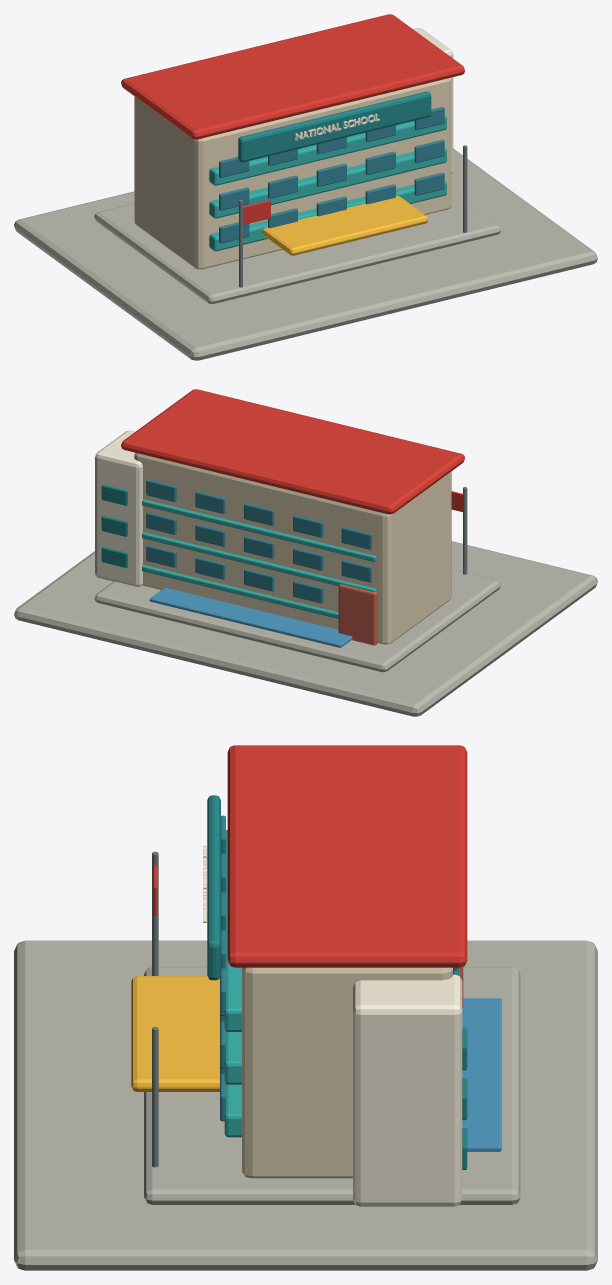
File: national-school-v2.glb
3 renders of one model, top to bottom at view 1: azimuth 30°, elevation 25°; view 2: azimuth 150°, elevation 25°; view 3: azimuth 270°, elevation 25°, orthographic. The views are drawn at different scales.
Visible parts, largest first — view 1: Ground, NATIONAL SCHOOL SCHOOL · Island red, NATIONAL SCHOOL SCHOOL · Warm plaster, NATIONAL SCHOOL SCHOOL · Concrete, NATIONAL SCHOOL SCHOOL · Graphic glass, NATIONAL SCHOOL SCHOOL · Weathered teal, NATIONAL SCHOOL SCHOOL · Signal yellow, NATIONAL SCHOOL SCHOOL · Deep teal, NATIONAL SCHOOL SCHOOL · Chalk, NATIONAL SCHOOL SCHOOL · Dark metal; view 2: Ground, NATIONAL SCHOOL SCHOOL · Warm plaster, NATIONAL SCHOOL SCHOOL · Island red, NATIONAL SCHOOL SCHOOL · Concrete, NATIONAL SCHOOL SCHOOL · Graphic glass, NATIONAL SCHOOL SCHOOL · Chalk, NATIONAL SCHOOL SCHOOL · Weathered teal, NATIONAL SCHOOL SCHOOL · Utility blue, NATIONAL SCHOOL SCHOOL · Terracotta, NATIONAL SCHOOL SCHOOL · Deep teal, NATIONAL SCHOOL SCHOOL · Dark metal; view 3: Ground, NATIONAL SCHOOL SCHOOL · Island red, NATIONAL SCHOOL SCHOOL · Chalk, NATIONAL SCHOOL SCHOOL · Warm plaster, NATIONAL SCHOOL SCHOOL · Concrete, NATIONAL SCHOOL SCHOOL · Signal yellow, NATIONAL SCHOOL SCHOOL · Utility blue, NATIONAL SCHOOL SCHOOL · Deep teal, NATIONAL SCHOOL SCHOOL · Weathered teal, NATIONAL SCHOOL SCHOOL · Dark metal, NATIONAL SCHOOL SCHOOL · Graphic glass.
Boxes of the visible parts, left/top/right/bottom form: Ground: left=14, top=148, right=597, bottom=360; NATIONAL SCHOOL SCHOOL · Island red: left=121, top=14, right=464, bottom=224; NATIONAL SCHOOL SCHOOL · Warm plaster: left=134, top=77, right=451, bottom=269; NATIONAL SCHOOL SCHOOL · Concrete: left=94, top=191, right=500, bottom=303; NATIONAL SCHOOL SCHOOL · Graphic glass: left=219, top=107, right=444, bottom=243; NATIONAL SCHOOL SCHOOL · Weathered teal: left=209, top=115, right=446, bottom=251; NATIONAL SCHOOL SCHOOL · Signal yellow: left=262, top=196, right=428, bottom=255; NATIONAL SCHOOL SCHOOL · Deep teal: left=238, top=91, right=431, bottom=162; NATIONAL SCHOOL SCHOOL · Chalk: left=295, top=28, right=453, bottom=173; NATIONAL SCHOOL SCHOOL · Dark metal: left=239, top=145, right=467, bottom=287; Ground: left=14, top=541, right=597, bottom=716; NATIONAL SCHOOL SCHOOL · Warm plaster: left=134, top=452, right=451, bottom=644; NATIONAL SCHOOL SCHOOL · Island red: left=121, top=389, right=464, bottom=514; NATIONAL SCHOOL SCHOOL · Concrete: left=94, top=569, right=500, bottom=672; NATIONAL SCHOOL SCHOOL · Graphic glass: left=146, top=479, right=371, bottom=603; NATIONAL SCHOOL SCHOOL · Chalk: left=95, top=430, right=142, bottom=586; NATIONAL SCHOOL SCHOOL · Weathered teal: left=142, top=499, right=376, bottom=618; NATIONAL SCHOOL SCHOOL · Utility blue: left=149, top=587, right=352, bottom=647; NATIONAL SCHOOL SCHOOL · Terracotta: left=338, top=584, right=377, bottom=645; NATIONAL SCHOOL SCHOOL · Deep teal: left=101, top=484, right=127, bottom=567; NATIONAL SCHOOL SCHOOL · Dark metal: left=463, top=487, right=467, bottom=574; Ground: left=14, top=940, right=597, bottom=1270; NATIONAL SCHOOL SCHOOL · Island red: left=153, top=745, right=467, bottom=967; NATIONAL SCHOOL SCHOOL · Chalk: left=203, top=846, right=462, bottom=1206; NATIONAL SCHOOL SCHOOL · Warm plaster: left=242, top=967, right=452, bottom=1178; NATIONAL SCHOOL SCHOOL · Concrete: left=144, top=967, right=520, bottom=1204; NATIONAL SCHOOL SCHOOL · Signal yellow: left=131, top=976, right=219, bottom=1091; NATIONAL SCHOOL SCHOOL · Utility blue: left=462, top=998, right=501, bottom=1151; NATIONAL SCHOOL SCHOOL · Deep teal: left=207, top=795, right=467, bottom=1169; NATIONAL SCHOOL SCHOOL · Weathered teal: left=224, top=830, right=459, bottom=1137; NATIONAL SCHOOL SCHOOL · Dark metal: left=152, top=851, right=158, bottom=1167; NATIONAL SCHOOL SCHOOL · Graphic glass: left=220, top=815, right=458, bottom=1121.
Bounding box in the file's own units: 10 × 3.91 × 7.75.
1 material, 1 textured.
